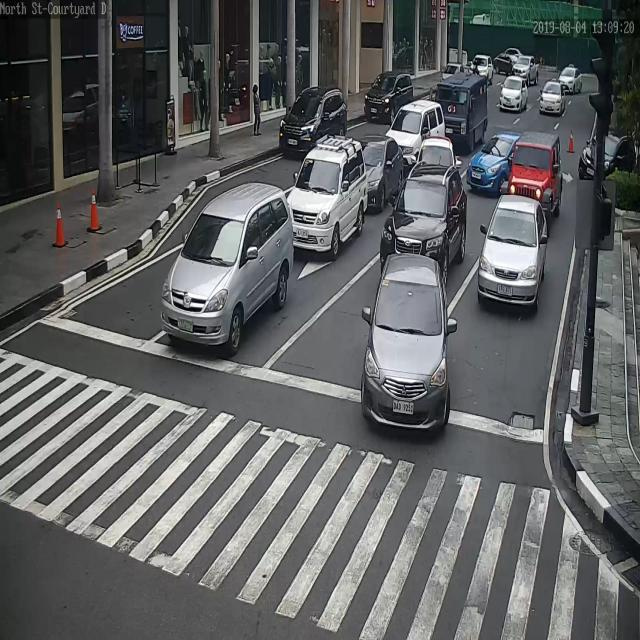bus: (435, 72, 490, 156)
car: (159, 183, 296, 358), (360, 251, 450, 434), (380, 159, 468, 273), (285, 139, 368, 257), (475, 196, 549, 310), (278, 88, 348, 162), (386, 98, 447, 162), (357, 136, 406, 214), (466, 134, 519, 197), (578, 127, 637, 183), (361, 71, 414, 125), (410, 136, 461, 168), (499, 75, 529, 110), (539, 80, 566, 117), (511, 53, 541, 86), (469, 53, 494, 86), (558, 65, 583, 94), (493, 52, 521, 77), (441, 63, 466, 82)
jeepney: (467, 55, 480, 77)
tricycle: (508, 135, 563, 214)
